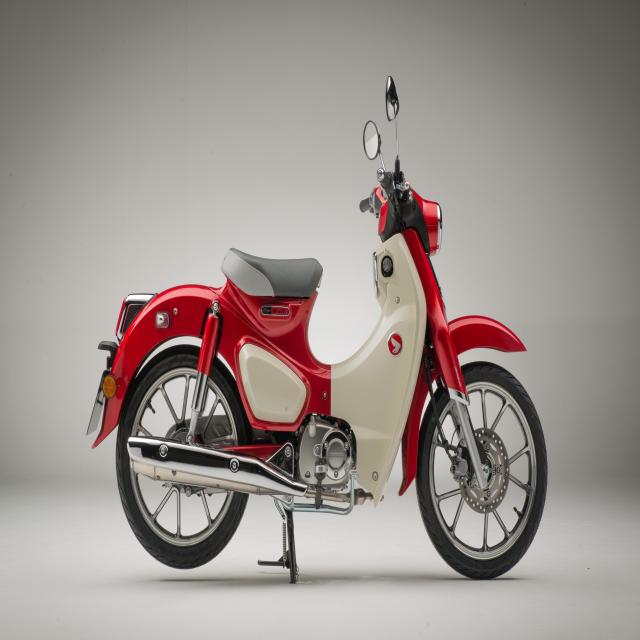Motorcycle: (87, 121, 548, 583)
